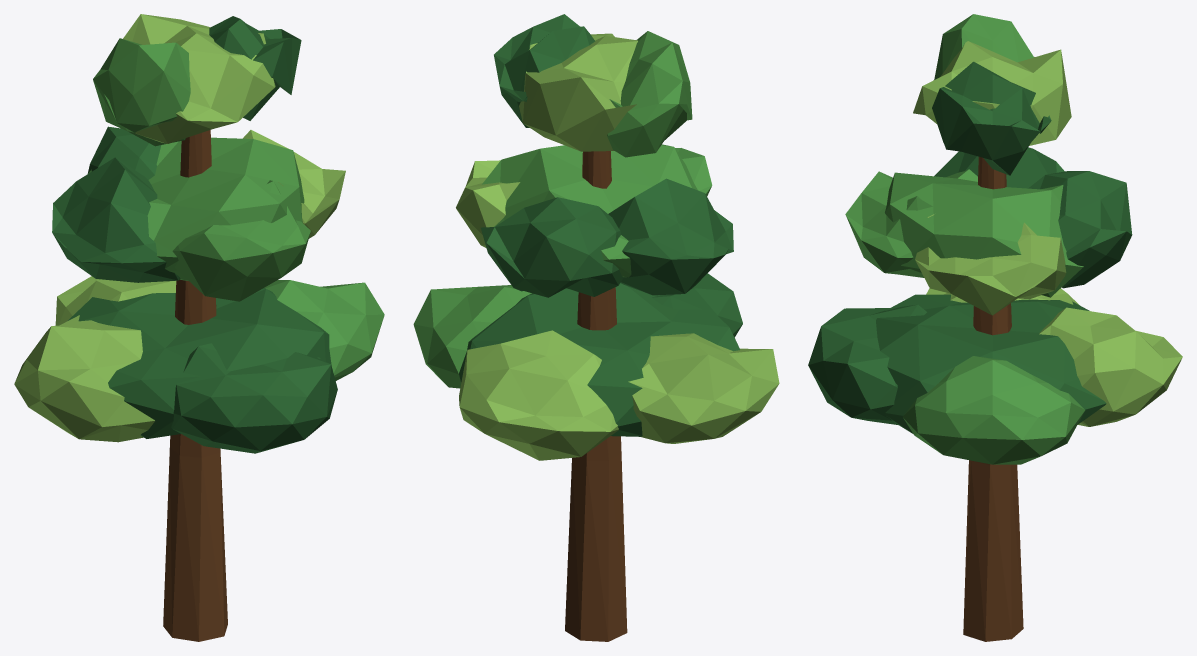
3 views of the same model, side by side, from view 1: azimuth 30°, elevation 25°; view 2: azimuth 150°, elevation 25°; view 3: azimuth 270°, elevation 25° (orthographic). The views are drawn at different scales.
Parts seen in each view (by area): view 1: WK_InnerKeepTree_PrunedOrnamental_ThreeTier_LOD0_High; view 2: WK_InnerKeepTree_PrunedOrnamental_ThreeTier_LOD0_High; view 3: WK_InnerKeepTree_PrunedOrnamental_ThreeTier_LOD0_High.
Boxes of the visible parts, <box> form: WK_InnerKeepTree_PrunedOrnamental_ThreeTier_LOD0_High: <box>14,14,384,641</box>; WK_InnerKeepTree_PrunedOrnamental_ThreeTier_LOD0_High: <box>413,14,779,641</box>; WK_InnerKeepTree_PrunedOrnamental_ThreeTier_LOD0_High: <box>808,14,1182,641</box>.
Bounding box in the file's own units: 2.79 × 4.7 × 2.74.
